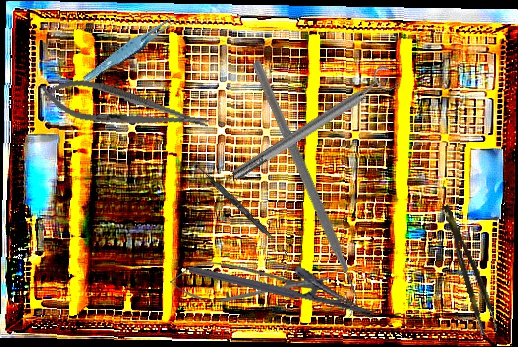Chopper: (163, 58, 441, 322)
Fixation Ring: (225, 62, 401, 188)
Micro Scissor: (169, 260, 330, 306)
Needle Holder: (188, 240, 382, 320), (38, 72, 213, 144)
Spatula Surgical: (193, 163, 292, 256)
Tissue Forceps: (441, 201, 500, 336), (78, 12, 185, 85)
